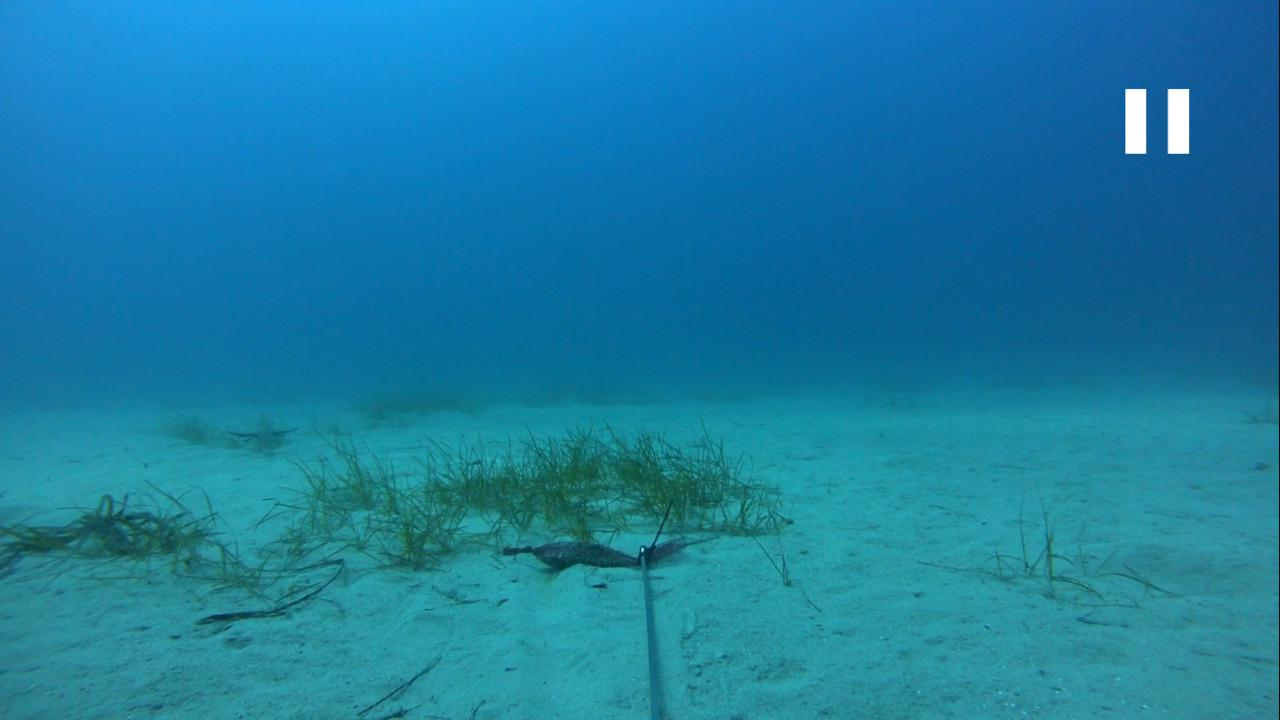dactylopterus: (228, 423, 296, 448)
